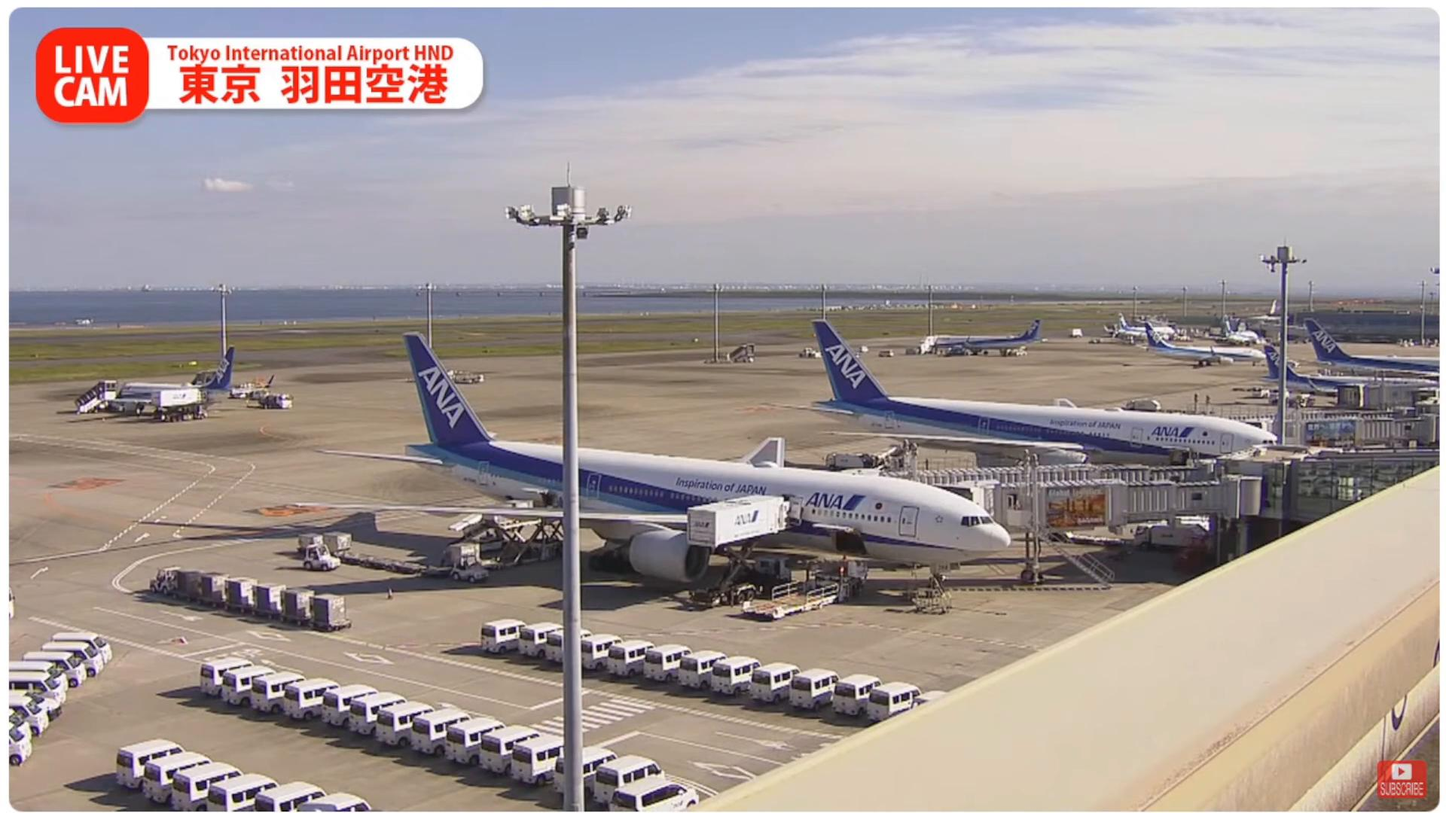Aerobridge: (956, 480, 1243, 535), (885, 461, 1213, 481)
Airplane: (290, 330, 1014, 584)
Dolly: (179, 578, 357, 638), (319, 546, 428, 571)
JCPL: (740, 556, 868, 618), (425, 524, 556, 579)
Skyloader: (432, 512, 553, 556)
Tractor: (154, 560, 186, 598), (300, 532, 326, 556)
Window: (1270, 448, 1442, 536)
